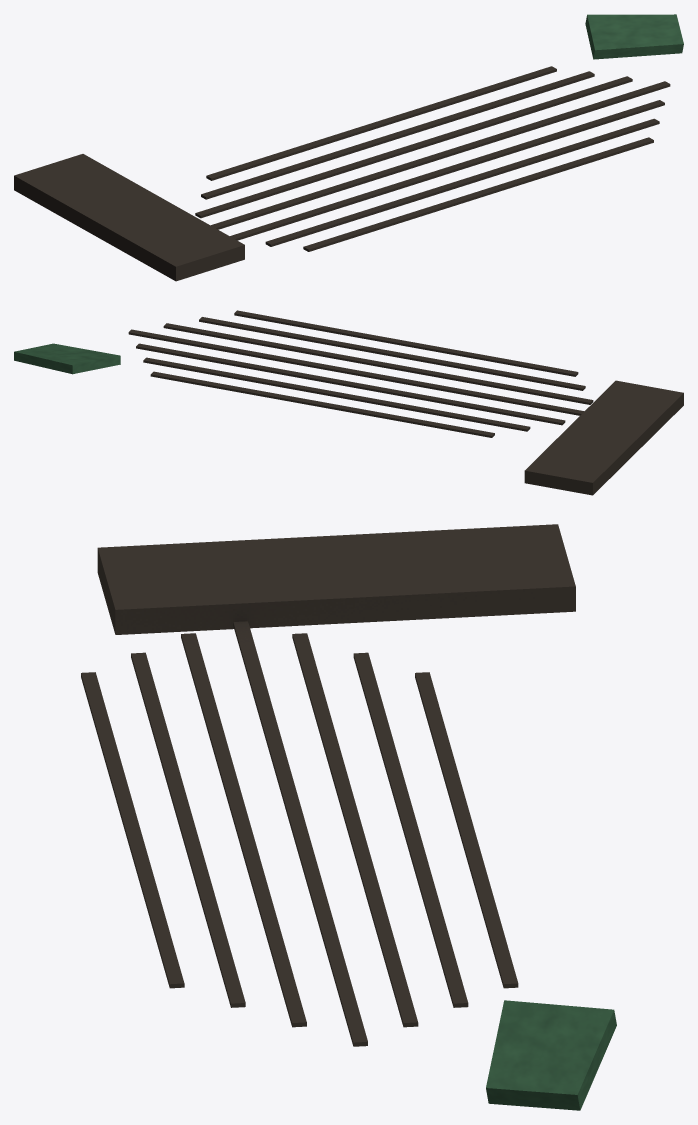
Rendered from trace_hoshiguma.glb.
3 views of the same model, one above another, from view 1: azimuth 30°, elevation 25°; view 2: azimuth 150°, elevation 25°; view 3: azimuth 270°, elevation 25° (orthographic). The views are drawn at different scales.
Parts seen in each view (by area): view 1: trace_hoshiguma; view 2: trace_hoshiguma; view 3: trace_hoshiguma.
Boxes of the visible parts, x1,y1,x2,y2 form: trace_hoshiguma: (14, 14, 683, 281); trace_hoshiguma: (14, 310, 683, 495); trace_hoshiguma: (81, 524, 616, 1110).
Bounding box in the file's own units: 1.43 × 0.0535 × 0.578.
2 materials, 2 textured.
